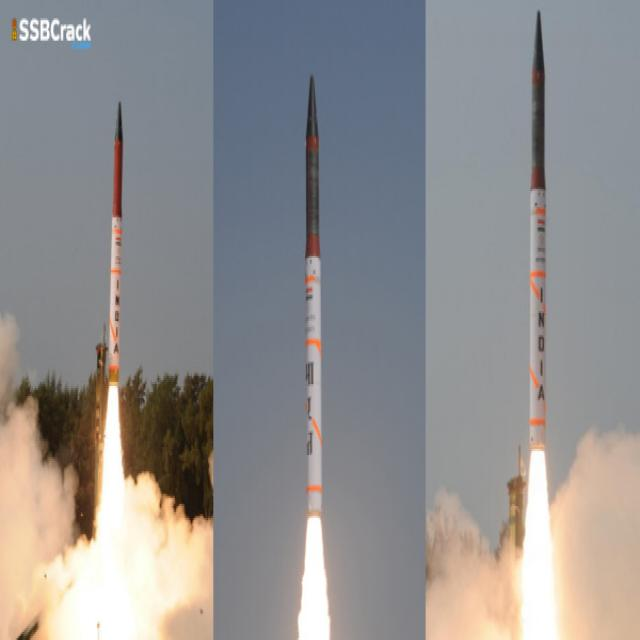rocket: (522, 6, 554, 567), (301, 70, 322, 584), (100, 97, 130, 410)
